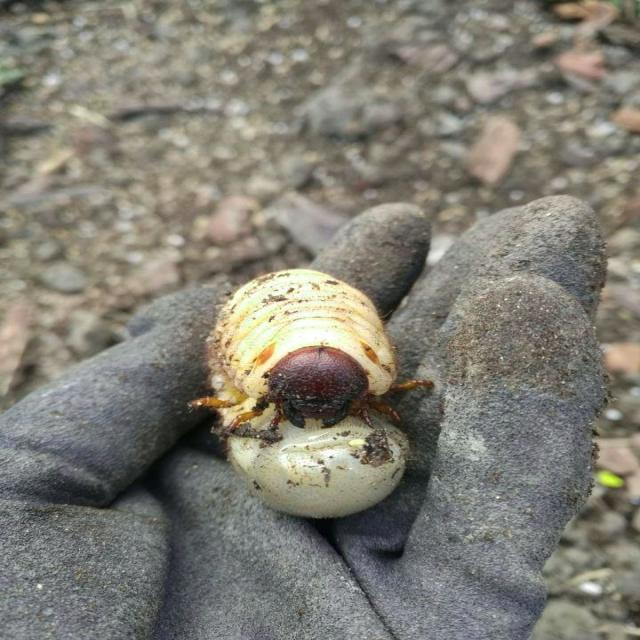grub: (208, 270, 417, 512)
